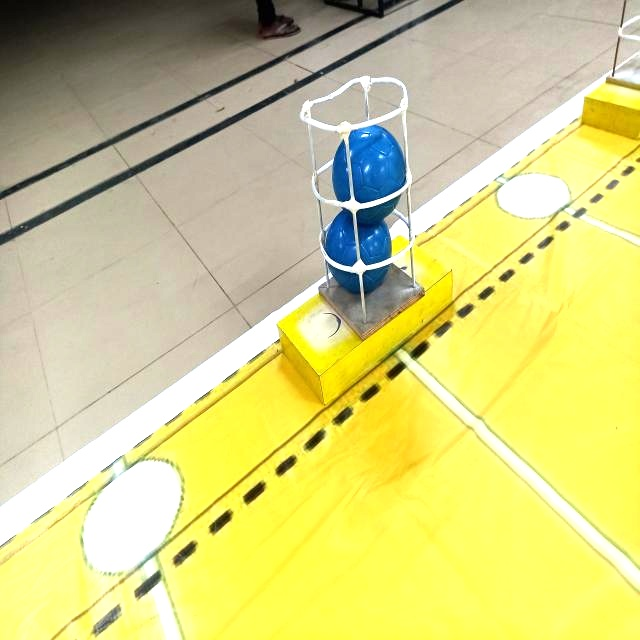blue_ball: (335, 123, 402, 220), (329, 212, 388, 288)
silo: (298, 75, 454, 322)
